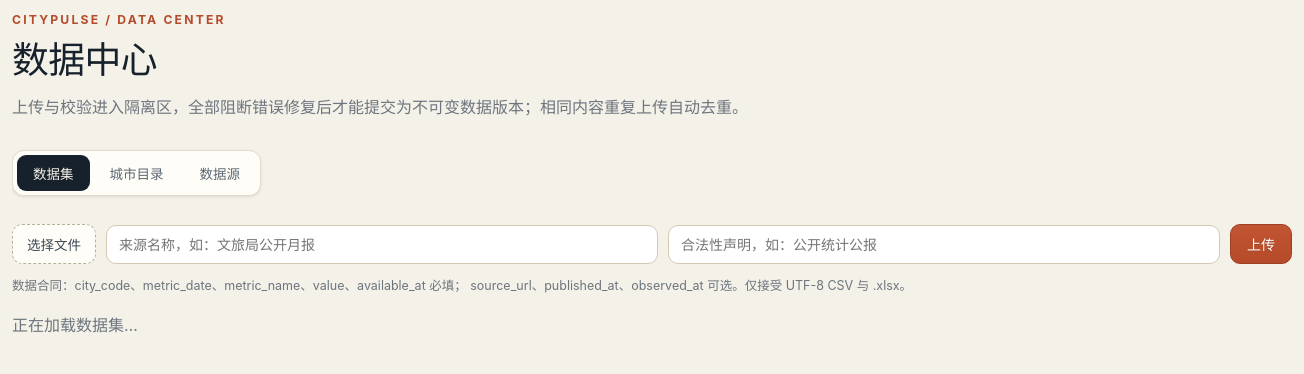
Scenario: city catalog tab searches the catalog
What coordinates should you click on to do the following:
click the tab "城市目录"
I would click on:
 (136, 173)
Its box is left=94, top=155, right=180, bottom=191.
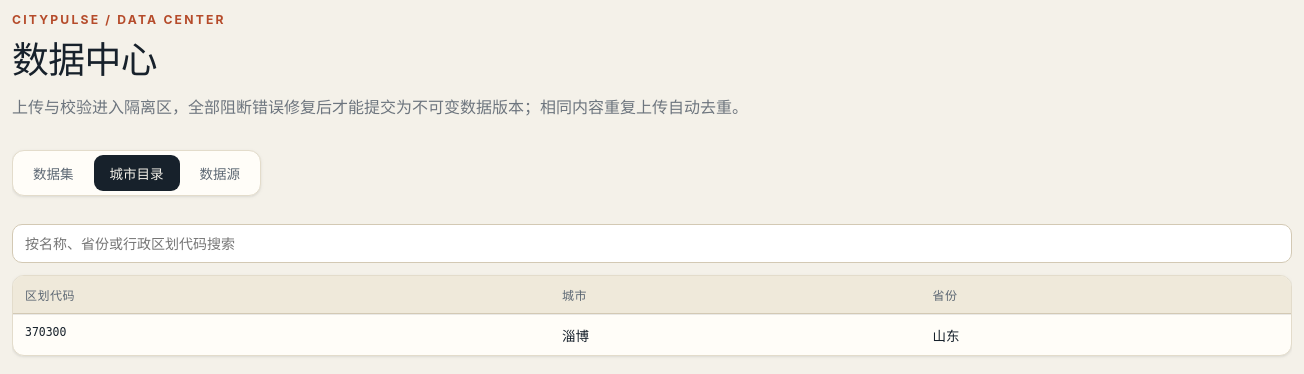
Expected: the text "370300" is shown, left=13, top=314, right=550, bottom=355
Expected: the text "淄博" is shown, left=550, top=314, right=920, bottom=355
